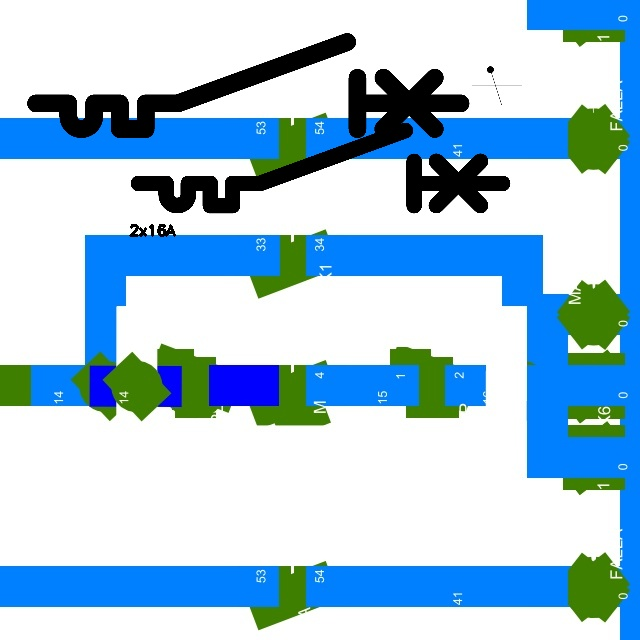interruptor_termomagnetico: (25, 31, 471, 140), (129, 121, 512, 215)
